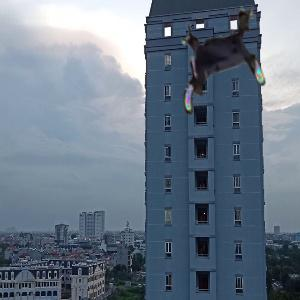drone: (166, 7, 275, 116)
